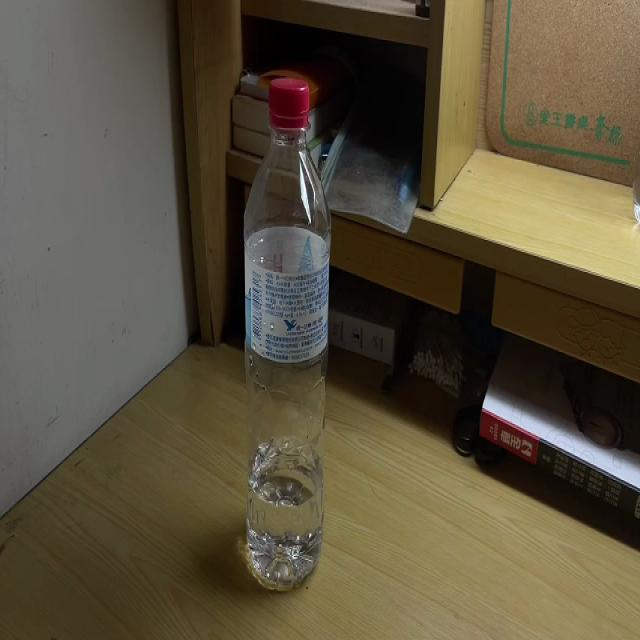Water: (245, 77, 329, 595)
